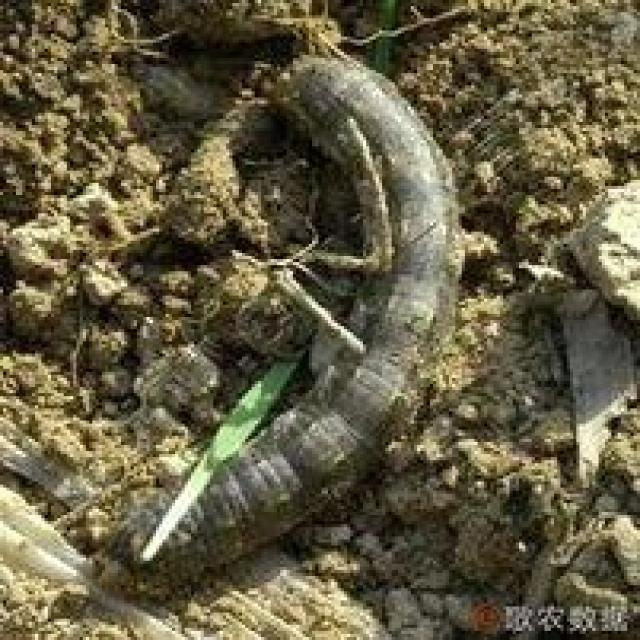black cutworm: (102, 39, 481, 585)
